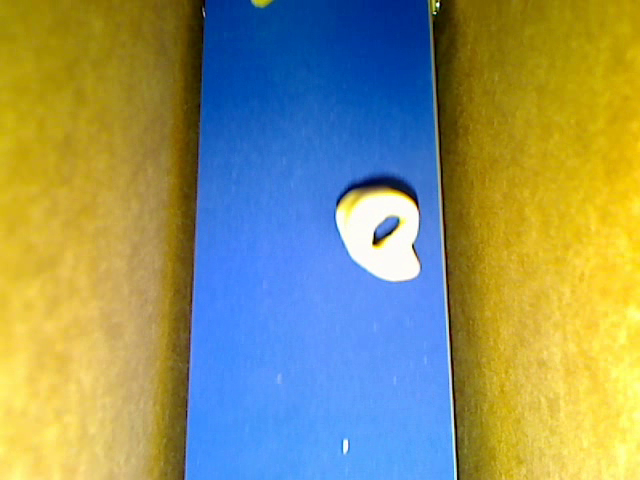tortellini: (335, 184, 421, 282)
